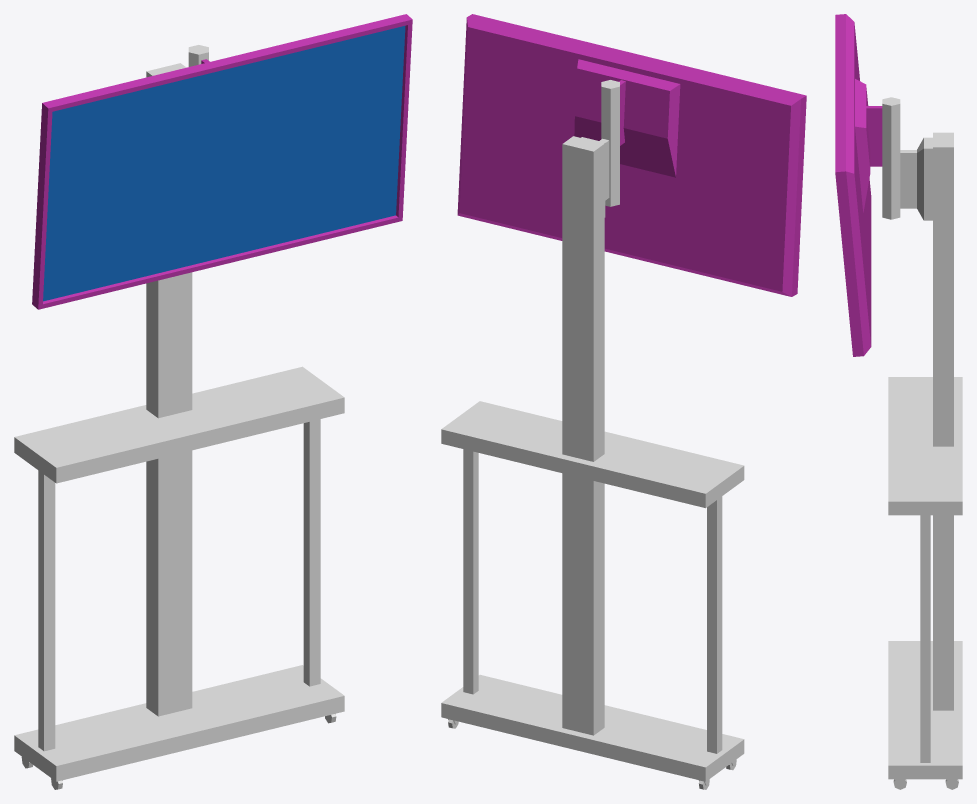
The picture shows the model from 3 angles, left to right: view 1: azimuth 30°, elevation 25°; view 2: azimuth 150°, elevation 25°; view 3: azimuth 270°, elevation 25°; orthographic projection. The views are drawn at different scales.
Visible parts, largest first — view 1: TV, Cylinder_1; view 2: TV, Cylinder_1; view 3: Cylinder_1, TV.
Boxes of the visible parts, x1,y1,x2,y2 form: TV: (32,14,412,309); Cylinder_1: (14,63,344,789); TV: (457,14,806,296); Cylinder_1: (441,136,744,789); Cylinder_1: (888,132,962,789); TV: (835,14,932,356).
Size of the model in its own units: 122 by 230 by 41.8.
